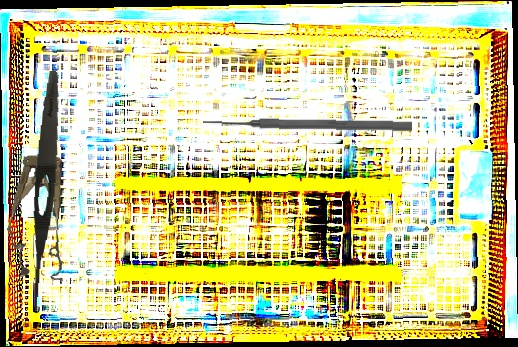Dressing Forceps: (25, 70, 65, 310)
Pusher: (202, 115, 413, 133)
Speculum: (3, 121, 78, 281)
